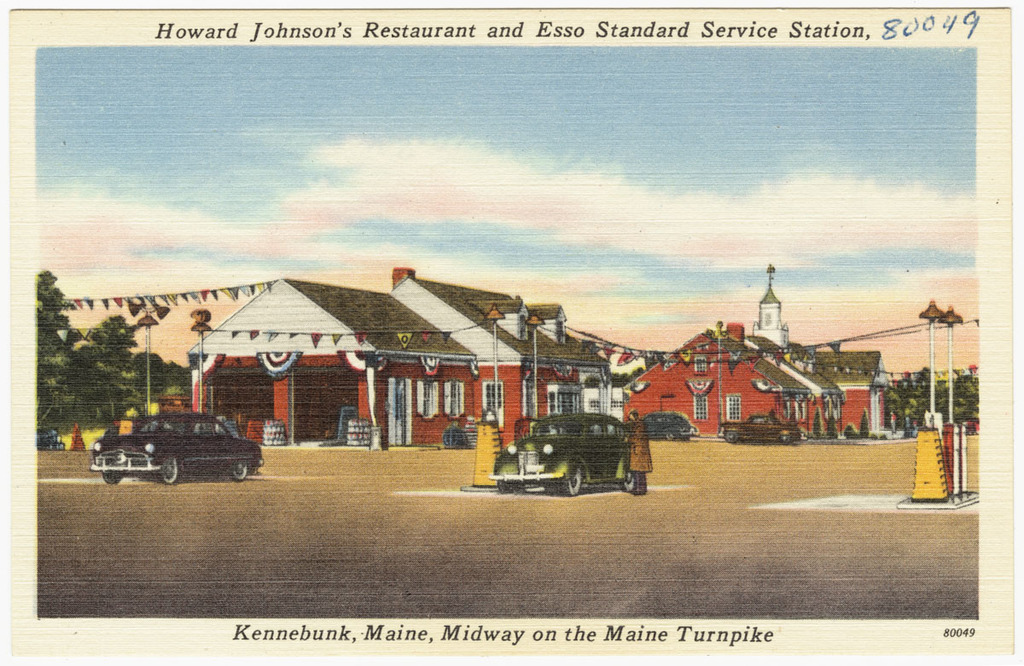Car: (91, 413, 264, 486), (488, 414, 634, 497), (718, 415, 802, 447), (640, 409, 699, 442)
